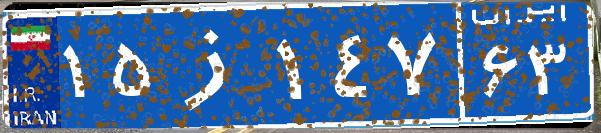1: (273, 28, 330, 110), (57, 26, 110, 107)
3: (525, 38, 570, 115)
4: (330, 28, 385, 110)
5: (110, 28, 158, 105)
6: (475, 38, 525, 113)
7: (385, 28, 445, 110)
ز: (158, 15, 273, 115)
